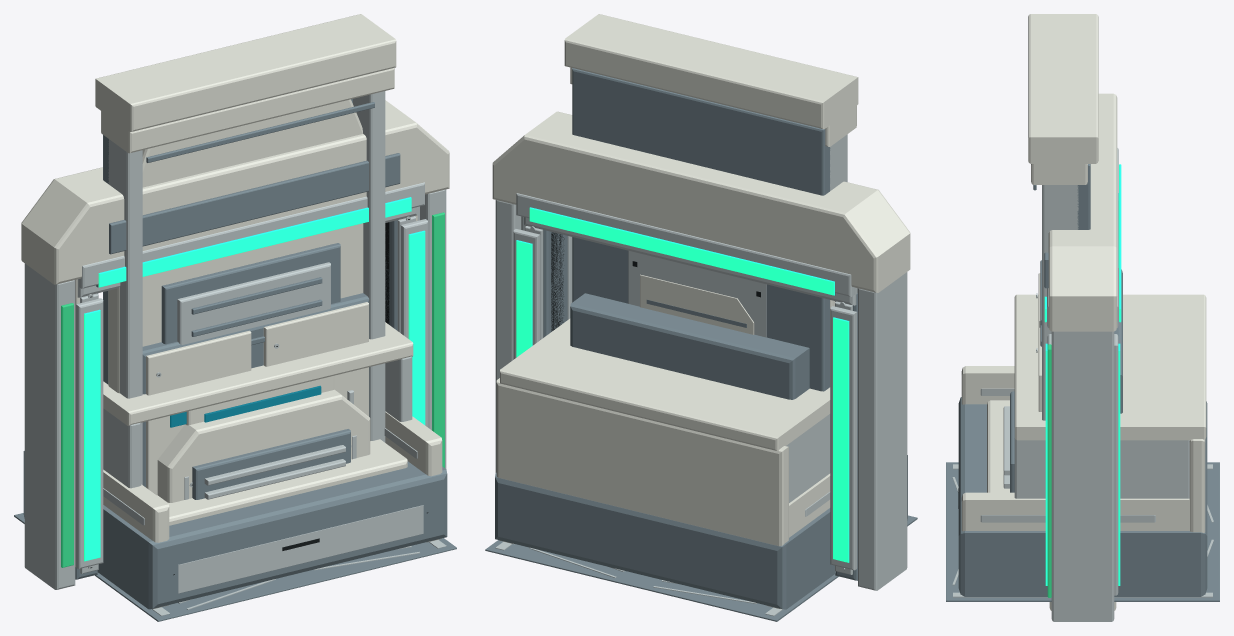
The model's file is genesis-cinematic-kit.glb.
The picture shows the model from 3 angles, left to right: view 1: azimuth 30°, elevation 25°; view 2: azimuth 150°, elevation 25°; view 3: azimuth 270°, elevation 25°; orthographic projection. The views are drawn at different scales.
Visible parts, largest first — view 1: exterior-facade__composite, sleep-berth__graphite, entrance-crown__composite, exterior-facade__titanium, sleep-berth__composite, entrance-crown__titanium, life-support__composite, sleep-berth__titanium, green-airlock__green, green-airlock__titanium, external-service__composite, exterior-facade__graphite (+9 smaller); view 2: sleep-berth__composite, entrance-crown__composite, exterior-facade__graphite, sleep-berth__graphite, entrance-crown__titanium, exterior-facade__composite, life-support__graphite, green-airlock__titanium, green-airlock__green, floor-cassette__graphite, door-leaf__titanium, door-leaf__composite (+5 smaller); view 3: sleep-berth__composite, entrance-crown__titanium, sleep-berth__graphite, exterior-facade__composite, entrance-crown__composite, sleep-berth__titanium, floor-cassette__graphite, exterior-facade__titanium, green-airlock__green, green-airlock__titanium, entrance-crown__reflection, exterior-facade__graphite (+5 smaller).
Part boxes in pixels (x1=…): exterior-facade__composite: x1=95, y1=14, x2=396, y2=393; sleep-berth__graphite: x1=23, y1=451, x2=447, y2=609; entrance-crown__composite: x1=21, y1=100, x2=449, y2=284; exterior-facade__titanium: x1=108, y1=91, x2=385, y2=484; sleep-berth__composite: x1=103, y1=322, x2=442, y2=608; entrance-crown__titanium: x1=24, y1=189, x2=446, y2=589; life-support__composite: x1=146, y1=302, x2=368, y2=495; sleep-berth__titanium: x1=103, y1=356, x2=423, y2=593; green-airlock__green: x1=84, y1=197, x2=425, y2=561; green-airlock__titanium: x1=76, y1=182, x2=427, y2=573; external-service__composite: x1=157, y1=389, x2=370, y2=502; exterior-facade__graphite: x1=103, y1=99, x2=374, y2=384; sleep-berth__composite: x1=496, y1=318, x2=830, y2=609; entrance-crown__composite: x1=492, y1=111, x2=910, y2=292; exterior-facade__graphite: x1=572, y1=68, x2=830, y2=391; sleep-berth__graphite: x1=495, y1=455, x2=907, y2=609; entrance-crown__titanium: x1=495, y1=200, x2=907, y2=590; exterior-facade__composite: x1=564, y1=14, x2=858, y2=386; life-support__graphite: x1=570, y1=293, x2=809, y2=399; green-airlock__titanium: x1=513, y1=193, x2=857, y2=574; green-airlock__green: x1=516, y1=207, x2=849, y2=562; floor-cassette__graphite: x1=485, y1=515, x2=917, y2=621; door-leaf__titanium: x1=628, y1=250, x2=766, y2=337; door-leaf__composite: x1=640, y1=274, x2=754, y2=334; sleep-berth__composite: x1=961, y1=294, x2=1206, y2=532; entrance-crown__titanium: x1=1051, y1=331, x2=1114, y2=621; sleep-berth__graphite: x1=958, y1=397, x2=1207, y2=596; exterior-facade__composite: x1=1028, y1=14, x2=1098, y2=184; entrance-crown__composite: x1=1048, y1=93, x2=1117, y2=331; sleep-berth__titanium: x1=980, y1=388, x2=1189, y2=522; floor-cassette__graphite: x1=946, y1=462, x2=1219, y2=601; exterior-facade__titanium: x1=1042, y1=185, x2=1078, y2=420; green-airlock__green: x1=1044, y1=164, x2=1121, y2=585; green-airlock__titanium: x1=1047, y1=148, x2=1118, y2=595; entrance-crown__reflection: x1=1047, y1=344, x2=1051, y2=597; exterior-facade__graphite: x1=1033, y1=164, x2=1090, y2=346.
Bounding box in the file's own units: 4.43 × 5.5 × 2.8.
7 materials, 1 textured.
